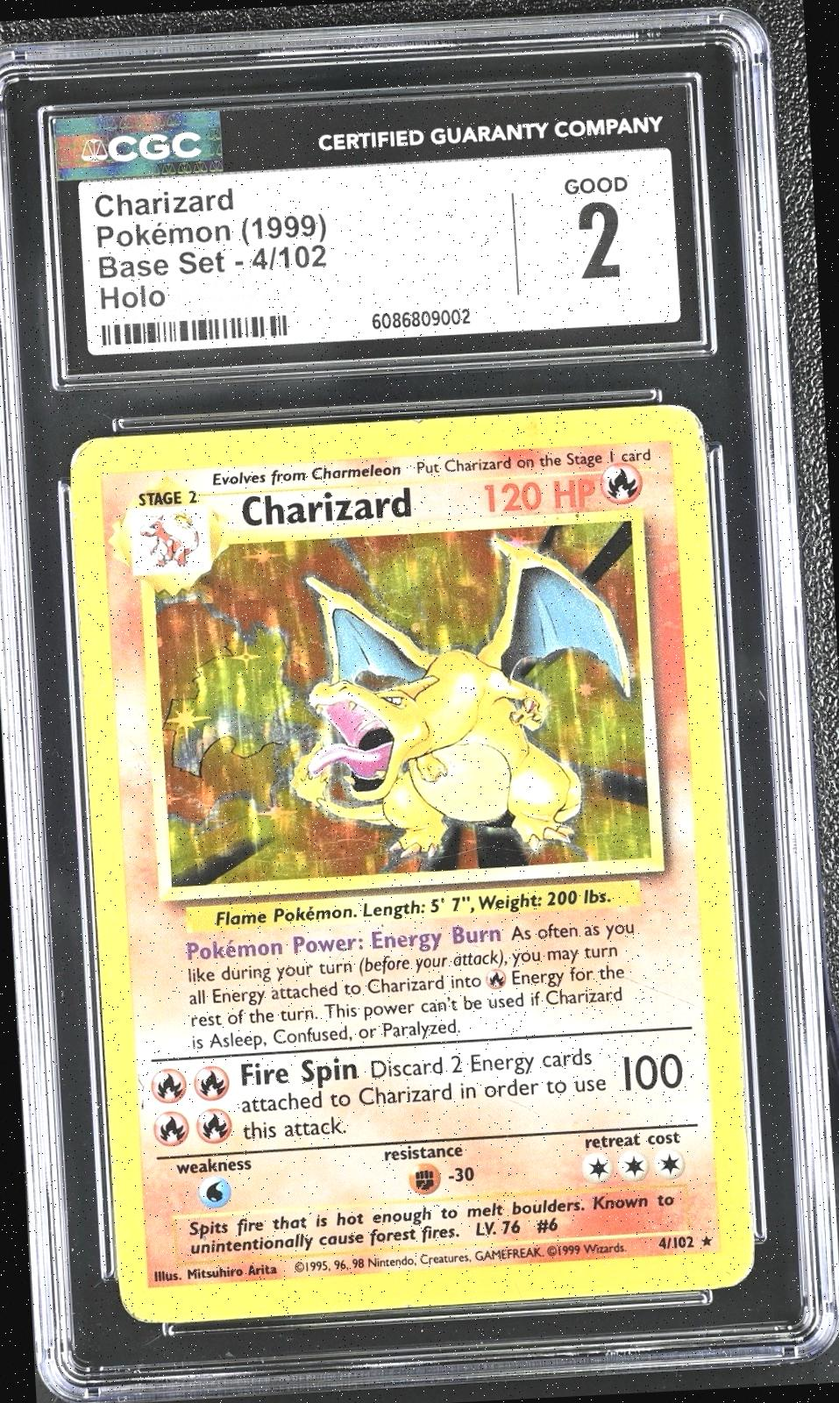card-2UtV: (69, 403, 755, 1324)
